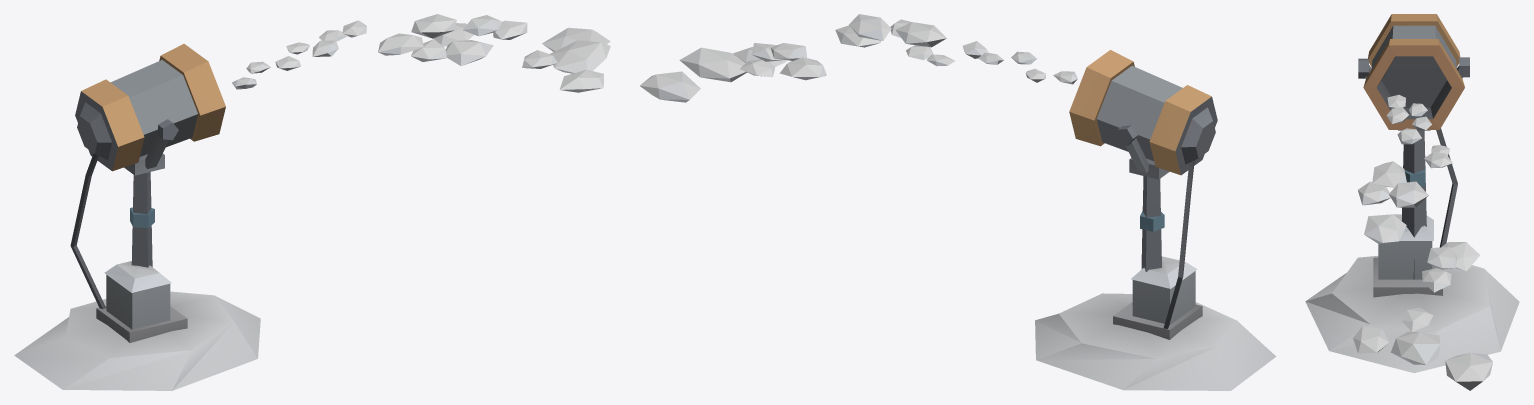
Rendered from cannon.lod1.glb.
3 views of the same model, side by side, from view 1: azimuth 30°, elevation 25°; view 2: azimuth 150°, elevation 25°; view 3: azimuth 270°, elevation 25° (orthographic). The views are drawn at different scales.
Size of the model in its own units: 8.73 by 3.97 by 2.61.
